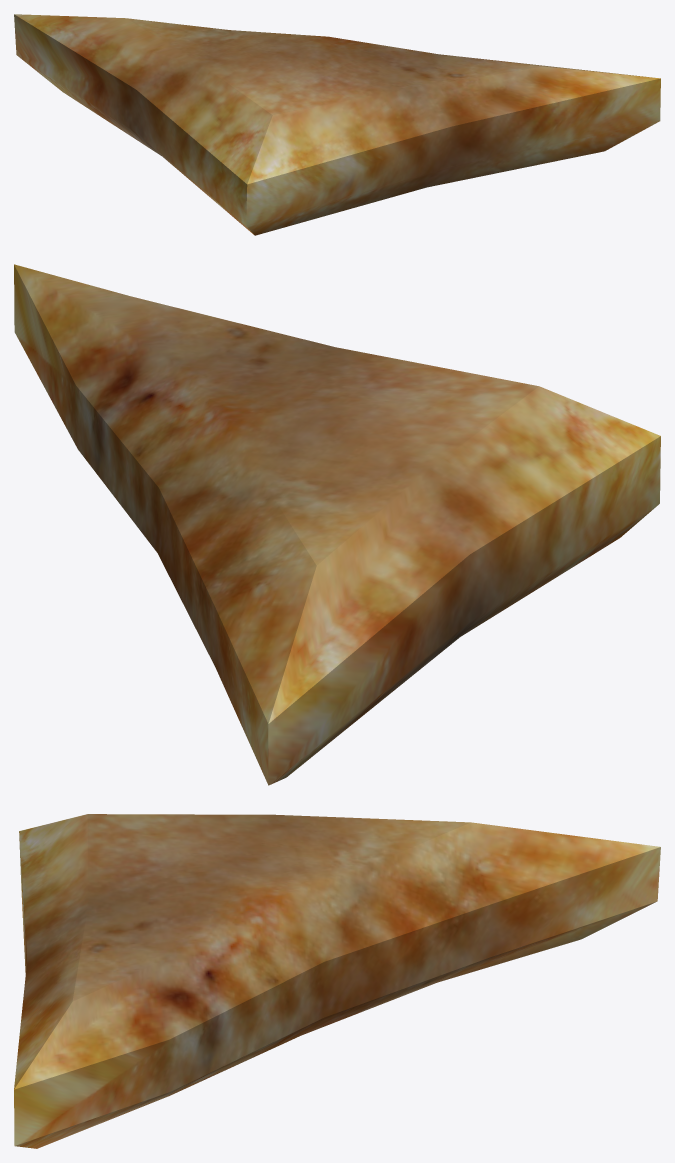
Rendered from MeatPies_4whole.fbx.
3 views of the same model, one above another, from view 1: azimuth 30°, elevation 25°; view 2: azimuth 150°, elevation 25°; view 3: azimuth 270°, elevation 25° (orthographic). The views are drawn at different scales.
Parts seen in each view (by area): view 1: MeatPies_4whole; view 2: MeatPies_4whole; view 3: MeatPies_4whole.
Boxes of the visible parts, bbox=[...] form: MeatPies_4whole: bbox=[14, 14, 660, 235]; MeatPies_4whole: bbox=[14, 264, 660, 785]; MeatPies_4whole: bbox=[14, 814, 660, 1148].
Size of the model in its own units: 0.2305 by 0.0575 by 0.2353.
